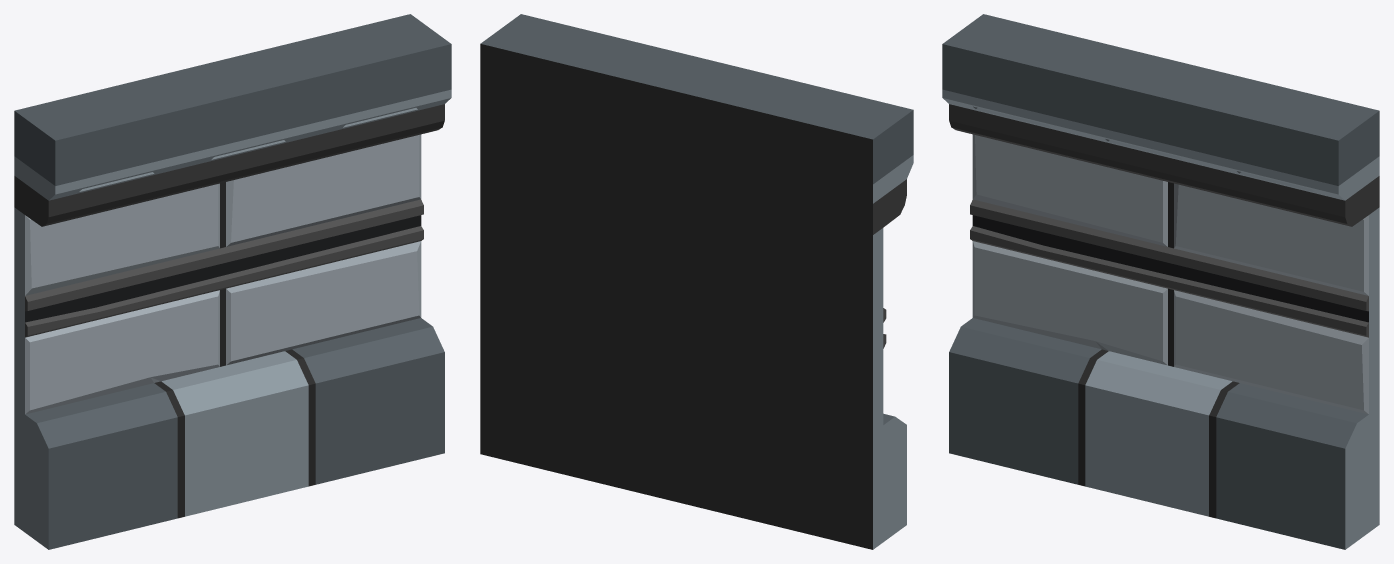
Rendered from SM_Bld_Wall_03.fbx.
3 views of the same model, side by side, from view 1: azimuth 30°, elevation 25°; view 2: azimuth 150°, elevation 25°; view 3: azimuth 330°, elevation 25° (orthographic).
Parts seen in each view (by area): view 1: SM_Bld_Wall_03; view 2: SM_Bld_Wall_03; view 3: SM_Bld_Wall_03.
Boxes of the visible parts, <box> form: SM_Bld_Wall_03: <box>14,14,451,549</box>; SM_Bld_Wall_03: <box>480,14,913,549</box>; SM_Bld_Wall_03: <box>942,14,1379,549</box>.
Size of the model in its own units: 500 by 500 by 89.72.
Materials: 1 (1 with a texture image).
